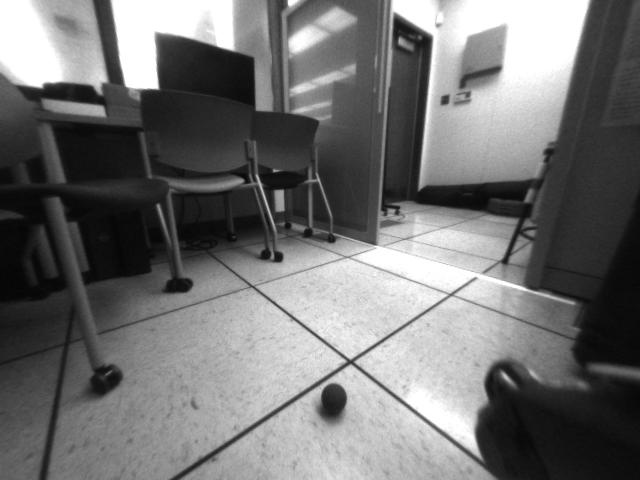dogtoy: (313, 376, 355, 423)
